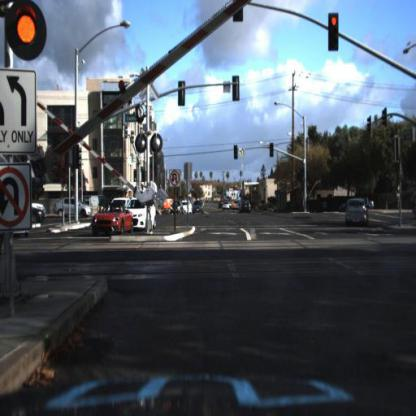car: (93, 200, 135, 236), (346, 190, 377, 237), (51, 197, 94, 224), (131, 200, 161, 231), (349, 194, 379, 212), (24, 207, 47, 226), (241, 194, 257, 221), (30, 209, 45, 231), (170, 202, 185, 219), (191, 199, 205, 217), (31, 202, 49, 215), (181, 199, 191, 220), (170, 199, 182, 214), (223, 194, 230, 217), (216, 192, 224, 212), (216, 195, 225, 212), (232, 197, 240, 215)
trafficLight: (328, 13, 339, 52), (232, 138, 243, 164), (269, 141, 276, 159)
trafficLight-Green: (299, 164, 307, 185)
trafficLight-Red: (1, 1, 70, 67), (324, 9, 345, 58)
